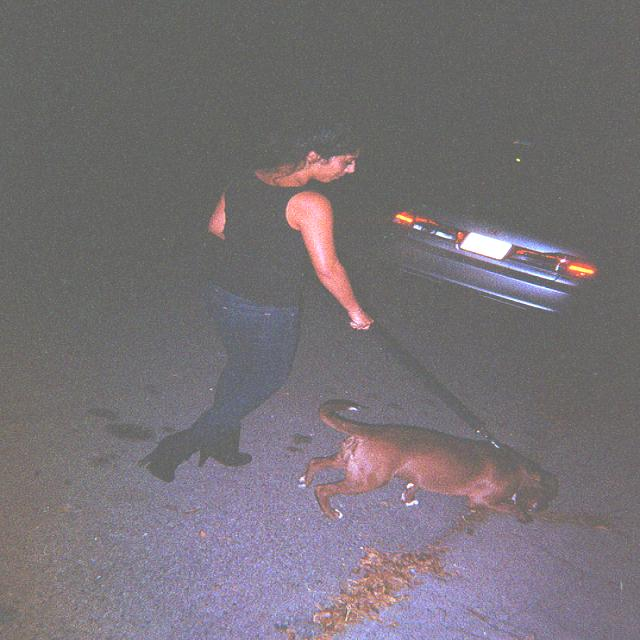Dog: (304, 395, 564, 528)
